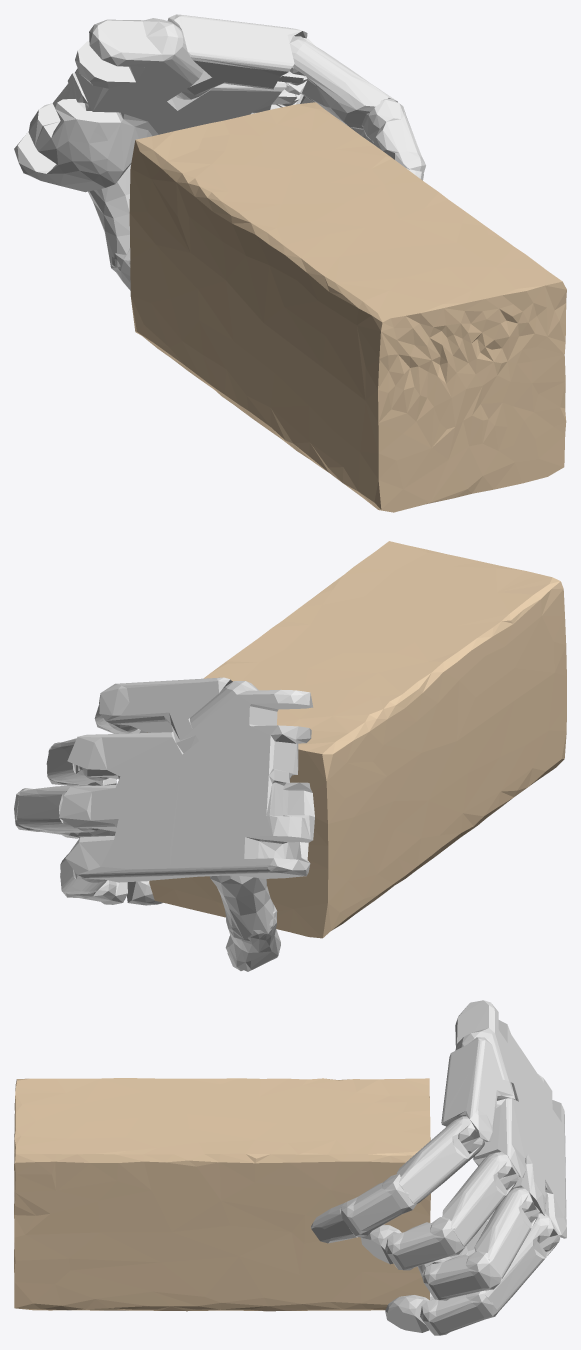
The model's file is graspit_shadow_wood.glb.
3 views of the same model, one above another, from view 1: azimuth 30°, elevation 25°; view 2: azimuth 150°, elevation 25°; view 3: azimuth 270°, elevation 25° (orthographic). The views are drawn at different scales.
Parts seen in each view (by area): view 1: object, hand; view 2: object, hand; view 3: object, hand.
Boxes of the visible parts, x1,y1,x2,y2 form: object: (129, 102, 566, 512); hand: (14, 14, 425, 290); object: (147, 541, 566, 938); hand: (14, 677, 314, 971); object: (14, 1078, 430, 1311); hand: (311, 1000, 566, 1335).
Size of the model in its own units: 0.16 by 0.1543 by 0.2729.
